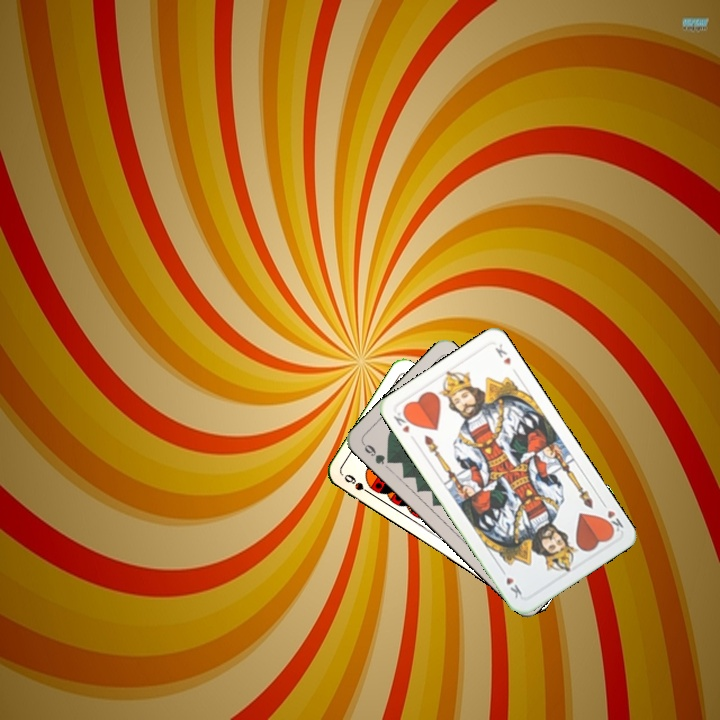G9: (359, 439, 396, 467)
HK: (597, 497, 626, 537), (389, 406, 416, 436)
S9: (340, 470, 376, 498)
